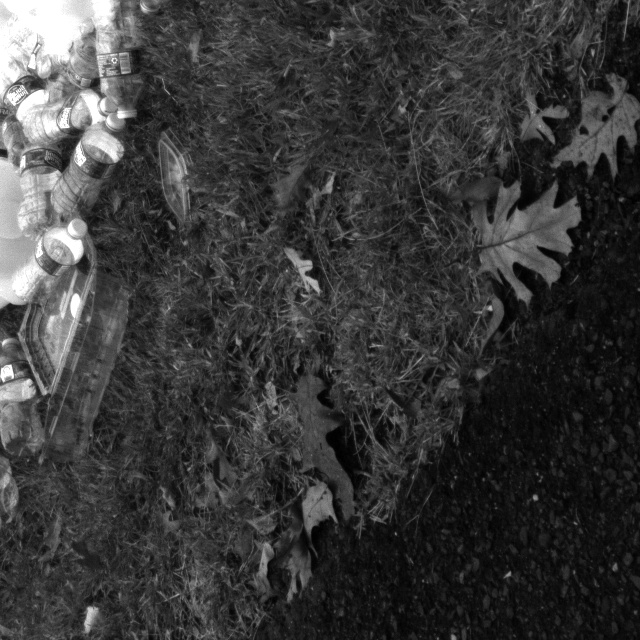bottle: (50, 110, 135, 221), (85, 0, 142, 124), (13, 126, 64, 239), (22, 85, 113, 147), (0, 41, 57, 138), (0, 16, 60, 81)
can: (0, 0, 117, 53)
container: (12, 226, 130, 456), (156, 130, 196, 221)
